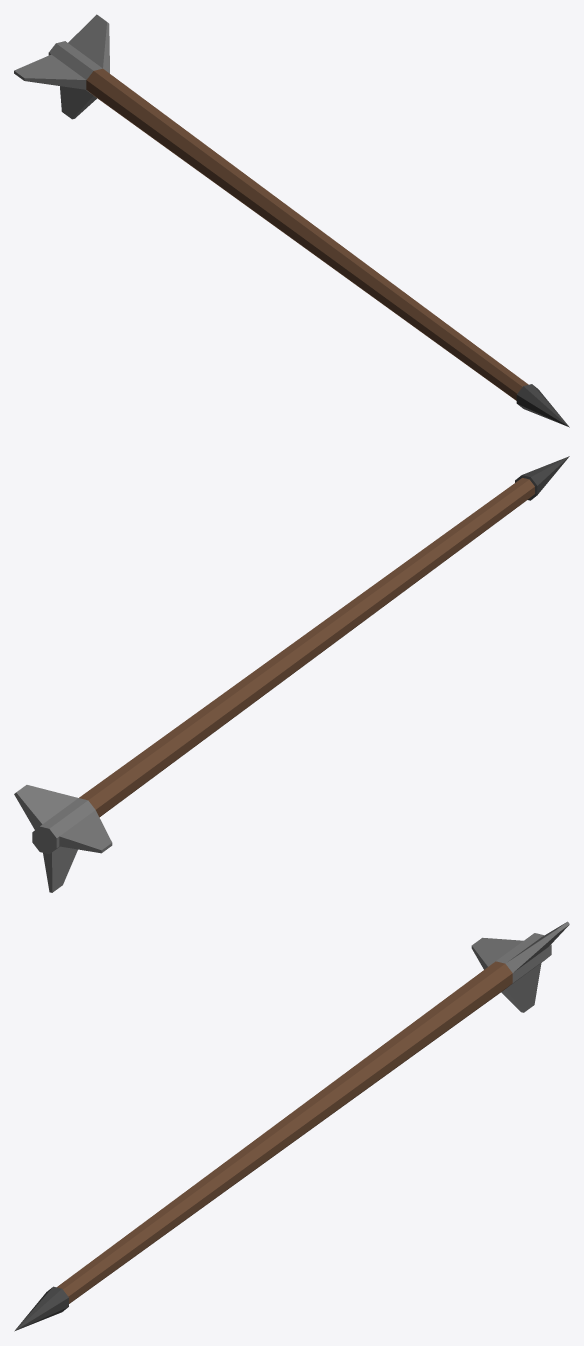
File: Arrow_2.fbx
The picture shows the model from 3 angles, top to bottom: view 1: azimuth 30°, elevation 25°; view 2: azimuth 150°, elevation 25°; view 3: azimuth 330°, elevation 25°; orthographic projection. The views are drawn at different scales.
Parts seen in each view (by area): view 1: Arrow_2; view 2: Arrow_2; view 3: Arrow_2.
Boxes of the visible parts, x1,y1,x2,y2 form: Arrow_2: (14, 14, 569, 427); Arrow_2: (14, 456, 569, 892); Arrow_2: (14, 921, 569, 1331).
Size of the model in its own units: 0.0202 by 0.0202 by 0.2101.
